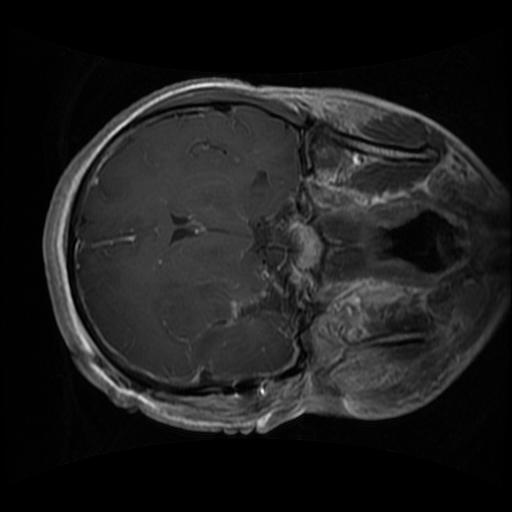glioma: (151, 278, 293, 377)
